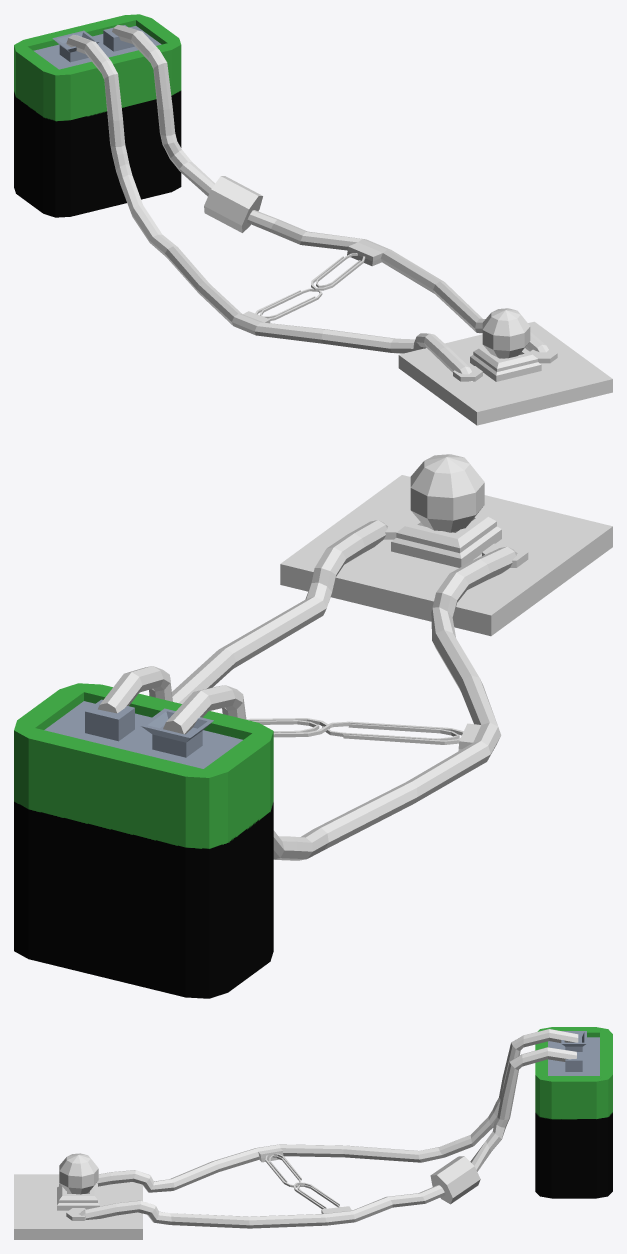
3 renders of one model, top to bottom at view 1: azimuth 30°, elevation 25°; view 2: azimuth 150°, elevation 25°; view 3: azimuth 270°, elevation 25°, orthographic. The views are drawn at different scales.
Visible parts, largest first — view 1: Battery, Cube, Cylinder, Cylinder.001, Cylinder.004, Sphere, Sundetiras.001, Sundetiras; view 2: Battery, Cube, Cylinder, Cylinder.001, Sphere, Sundetiras.001, Sundetiras; view 3: Battery, Cylinder.001, Cube, Cylinder, Cylinder.004, Sphere, Sundetiras, Sundetiras.001.
Boxes of the visible parts, x1,y1,x2,y2 form: Battery: (14, 14, 181, 217); Cube: (398, 321, 612, 425); Cylinder: (66, 34, 472, 381); Cylinder.001: (112, 25, 548, 352); Cylinder.004: (204, 176, 262, 232); Sphere: (482, 308, 530, 358); Sundetiras.001: (255, 288, 322, 320); Sundetiras: (311, 253, 365, 290); Battery: (14, 683, 273, 998); Cube: (280, 475, 612, 636); Cylinder: (163, 546, 517, 860); Cylinder.001: (98, 520, 387, 713); Sphere: (410, 454, 484, 532); Sundetiras.001: (322, 721, 463, 744); Sundetiras: (246, 718, 330, 737); Battery: (535, 1027, 612, 1198); Cylinder.001: (79, 1047, 576, 1228); Cube: (14, 1174, 142, 1239); Cylinder: (97, 1029, 578, 1192); Cylinder.004: (430, 1156, 480, 1204); Sphere: (59, 1153, 98, 1194); Sundetiras: (293, 1182, 340, 1209); Sundetiras.001: (265, 1153, 301, 1187).
Bounding box in the file's own units: 357 × 232 × 929.
